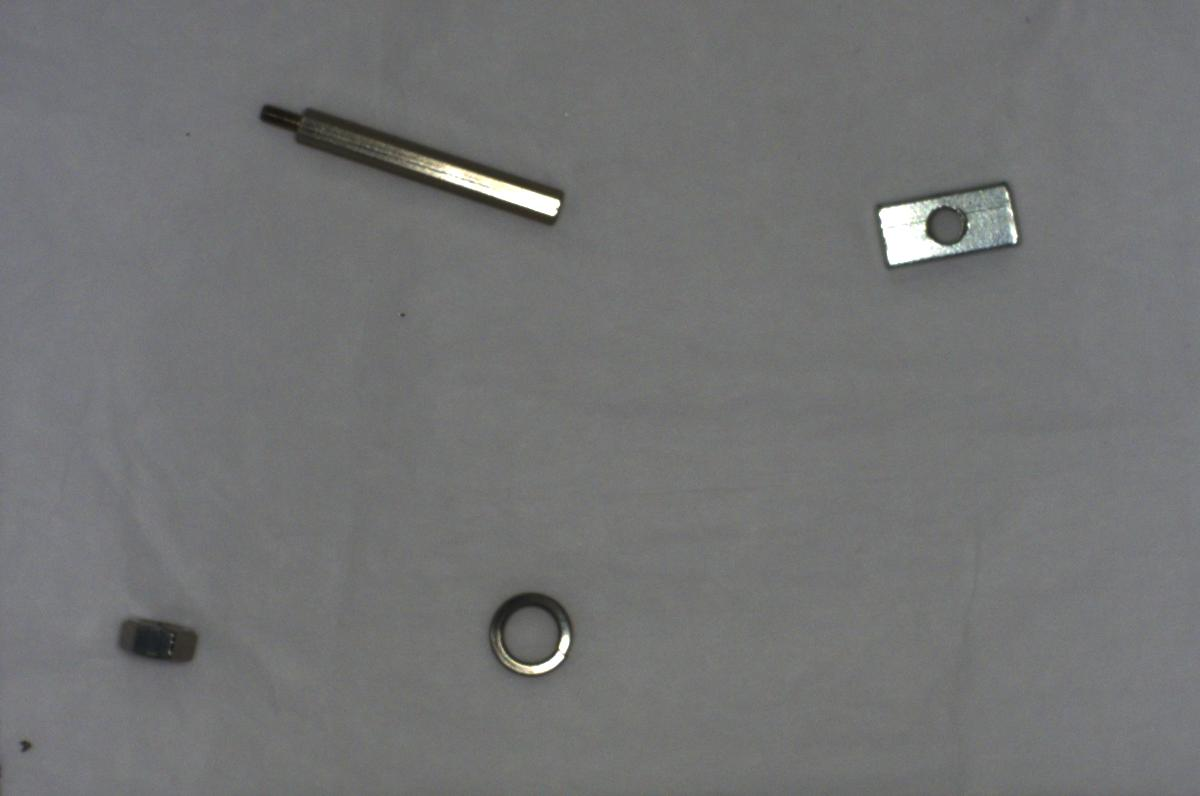Hexagon nut: (106, 603, 207, 670)
Hexagonal steel column: (248, 96, 567, 228)
Rectangular nut: (861, 178, 1027, 278)
Spring washer: (482, 587, 584, 678)
